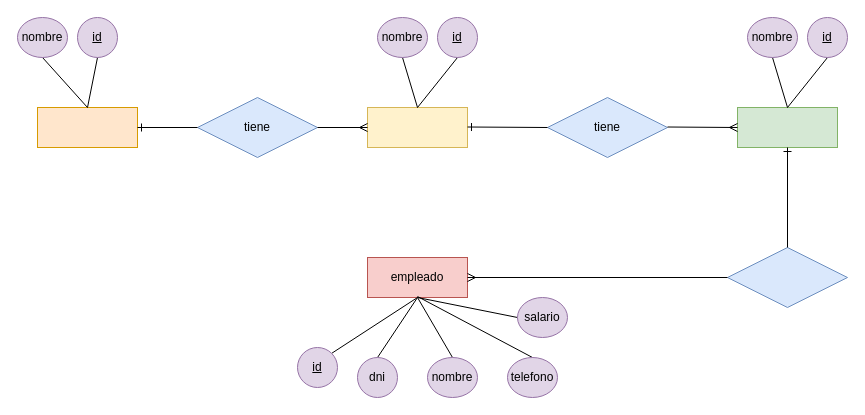
Some shapes in this 865 by 415 pixel diagram are drawn without their labels. The shapes that lost their labels are listed below. From the top down, each one's centre as x and y in pixels, then its label:
At point 87,127: "region".
At point 417,127: "provincia".
At point 787,127: "localidad".
At point 787,277: "nacido".
